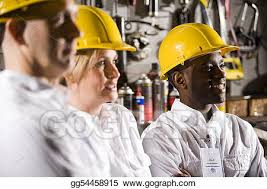Person_wearing_helmet: (155, 15, 239, 81)
